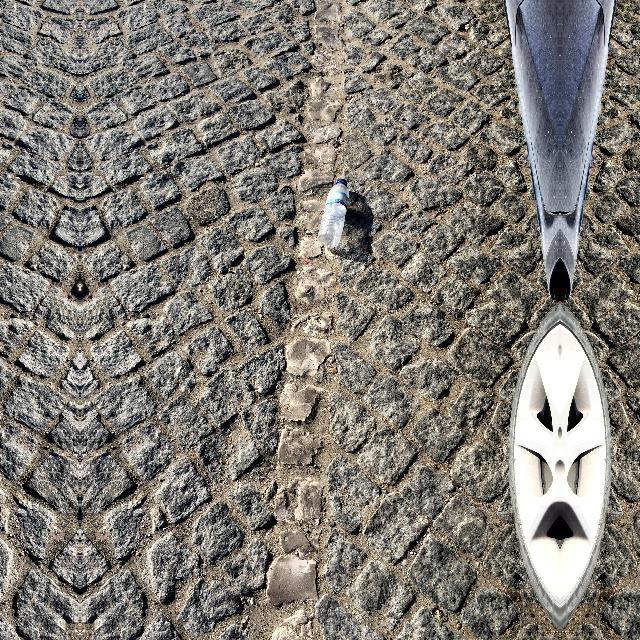Plastic: (314, 175, 350, 251)
